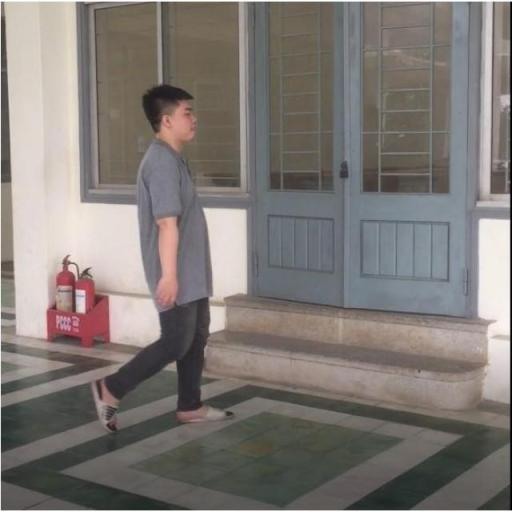Running: (86, 75, 240, 436)
